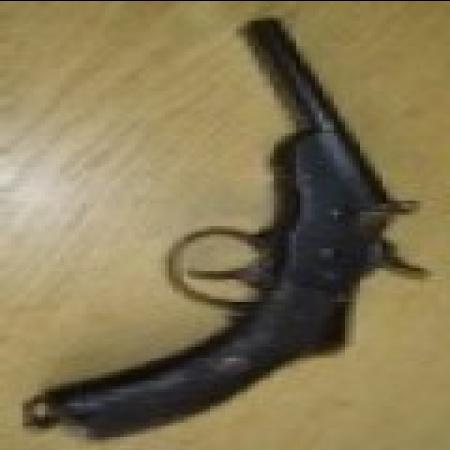Pistol: (56, 20, 435, 442)
